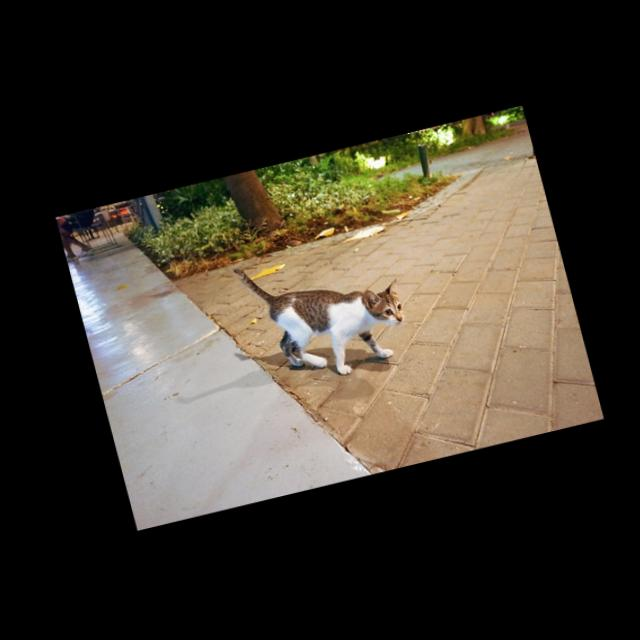animals: (227, 234, 413, 395)
